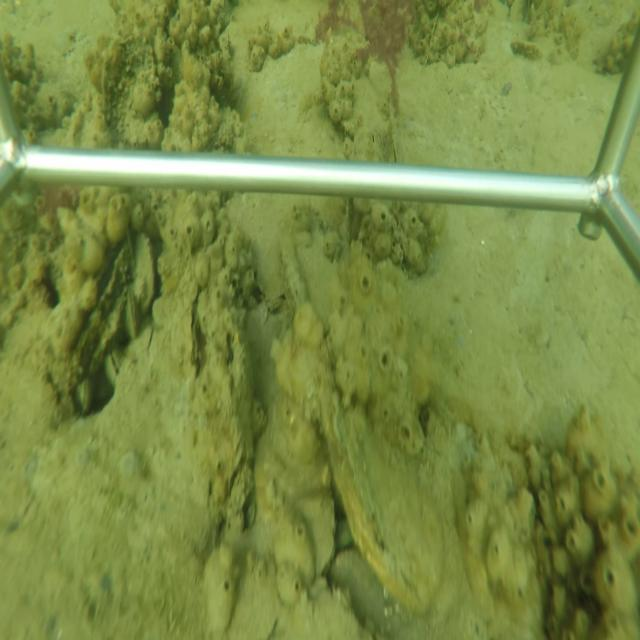Oyster-Closed: (279, 203, 454, 617), (276, 490, 342, 582), (169, 271, 205, 401), (133, 230, 157, 315), (123, 288, 139, 345)
